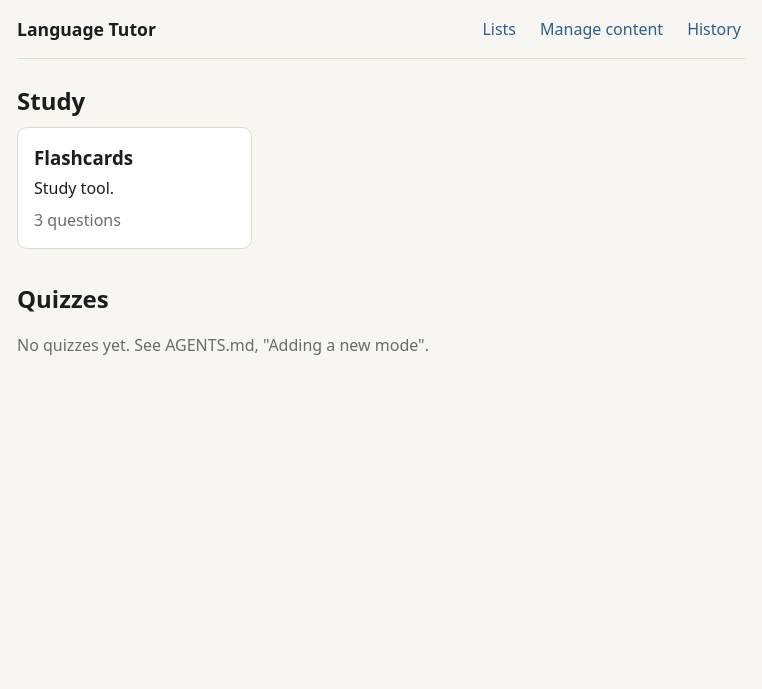
App › Lists → Study opens the setup with the list preselected
Click the button "Lists".
click(499, 29)  # box top-left (478, 17), bottom-right (520, 41)
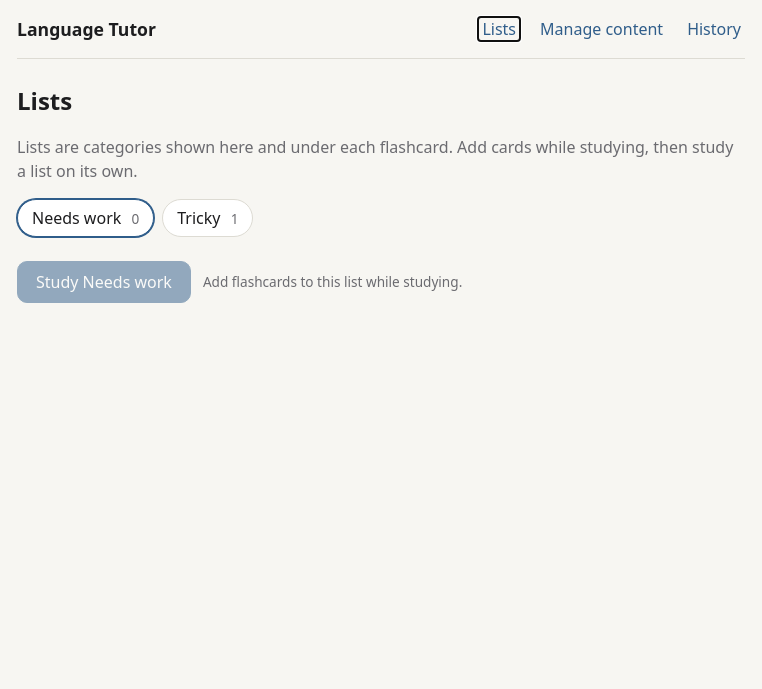
Click the button "Tricky 1".
click(208, 218)  # box top-left (162, 199), bottom-right (253, 237)
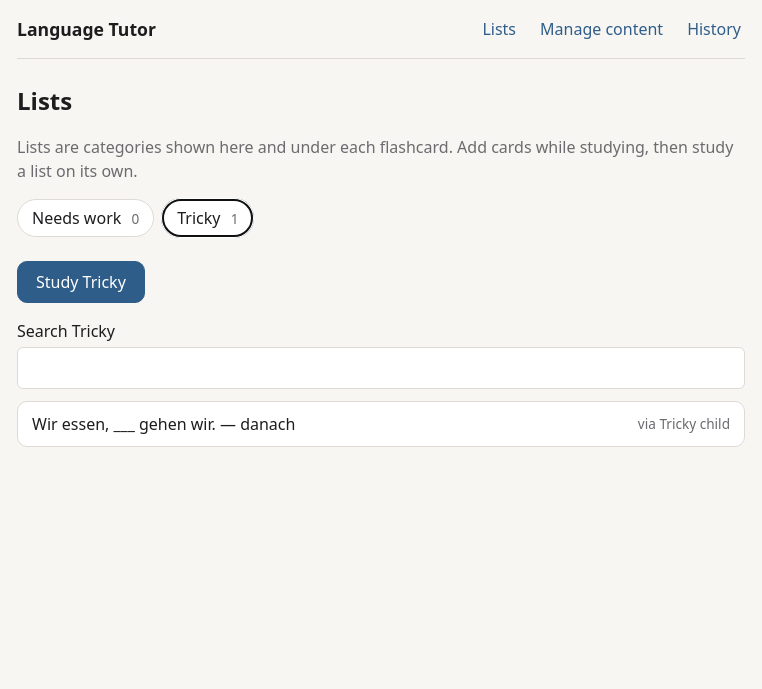
Click the button "Study Tricky".
click(81, 282)  # box top-left (17, 261), bottom-right (145, 303)
(page scrolled)
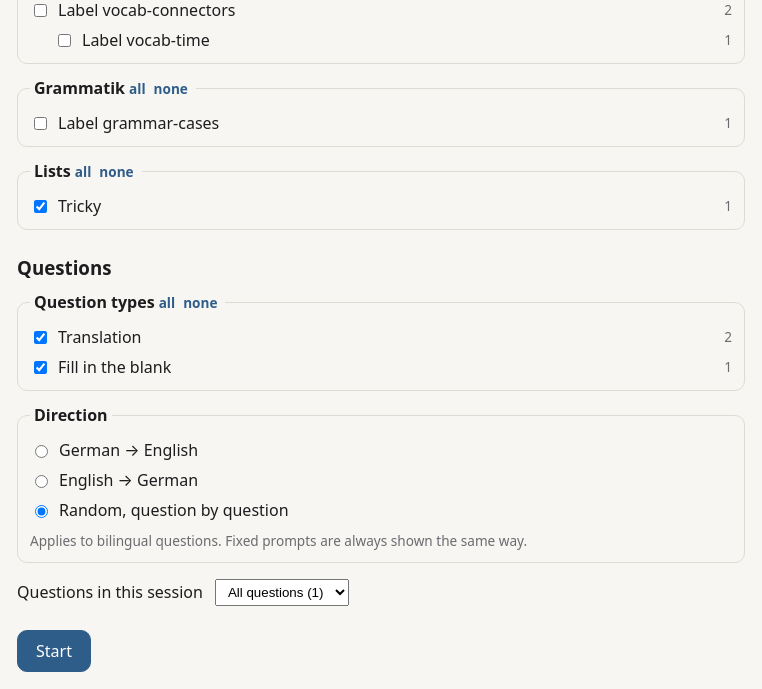
Expected: the checkbox labelled "Tricky 1" is checked, top-left (34, 200), bottom-right (47, 212)
Click the button "Start".
click(54, 650)  # box top-left (17, 630), bottom-right (91, 672)
(page scrolled)
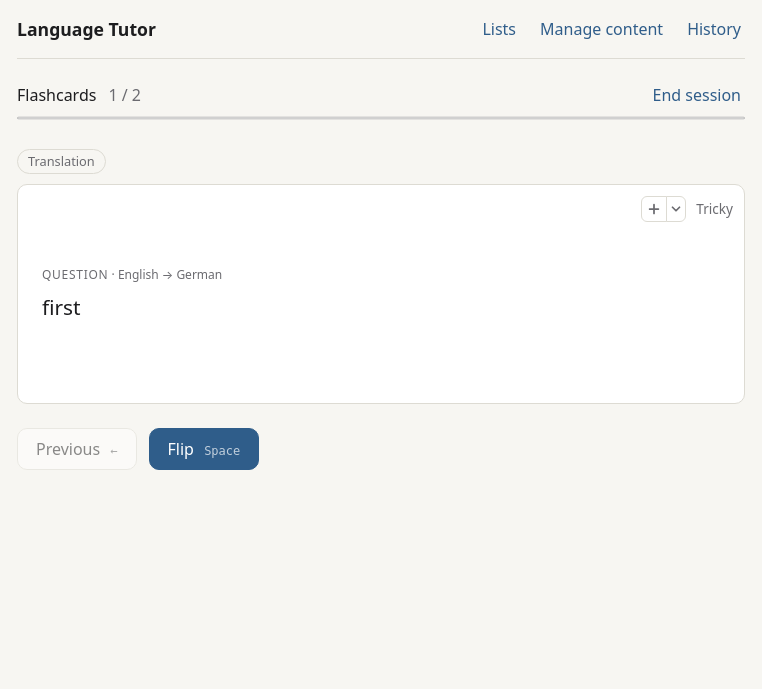
Expected: the text "1 / 2" is shown, top-left (108, 83), bottom-right (141, 107)
